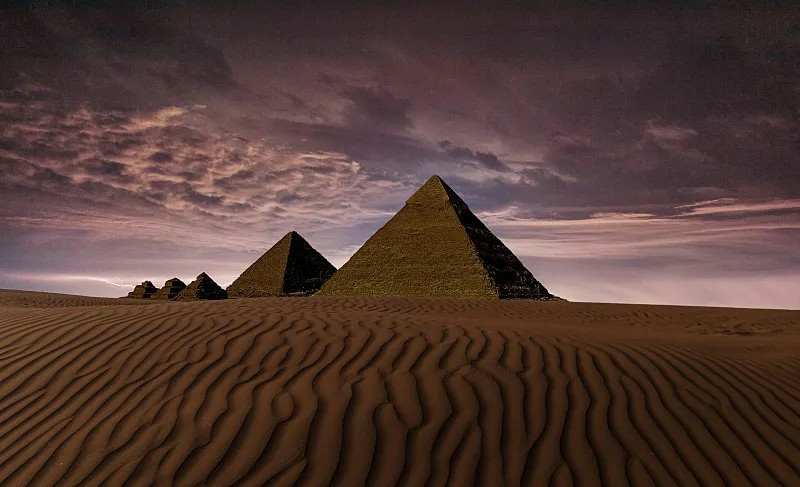Pyramid: (311, 174, 553, 302), (225, 232, 337, 296), (173, 271, 225, 298), (149, 278, 188, 298), (126, 280, 161, 298)
